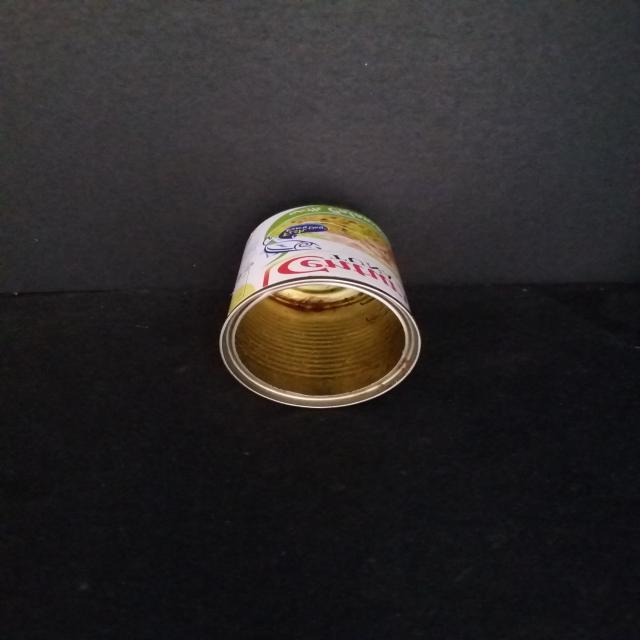metal: (216, 200, 422, 410)
